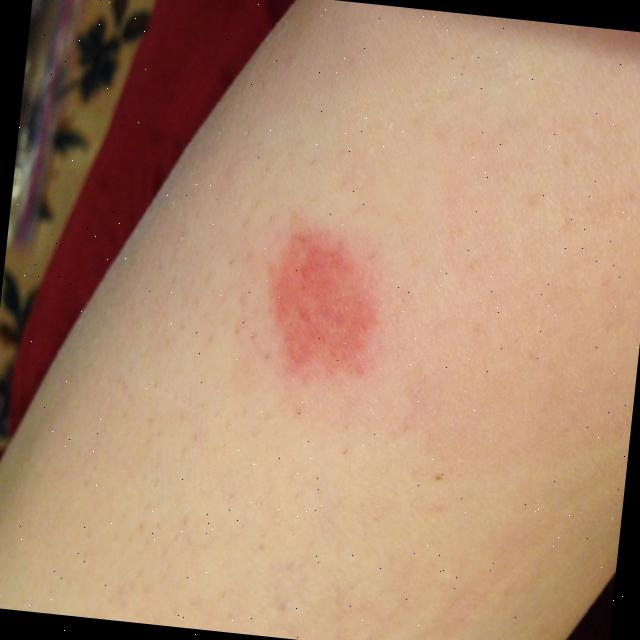kene: (250, 206, 403, 403)
